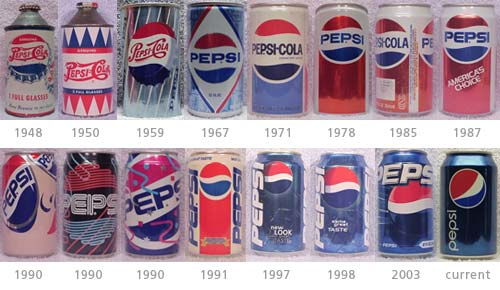pepsi: (387, 179, 434, 235), (390, 179, 434, 235), (446, 10, 488, 58), (320, 167, 358, 207), (449, 167, 485, 207), (199, 161, 232, 195), (258, 159, 291, 191)
